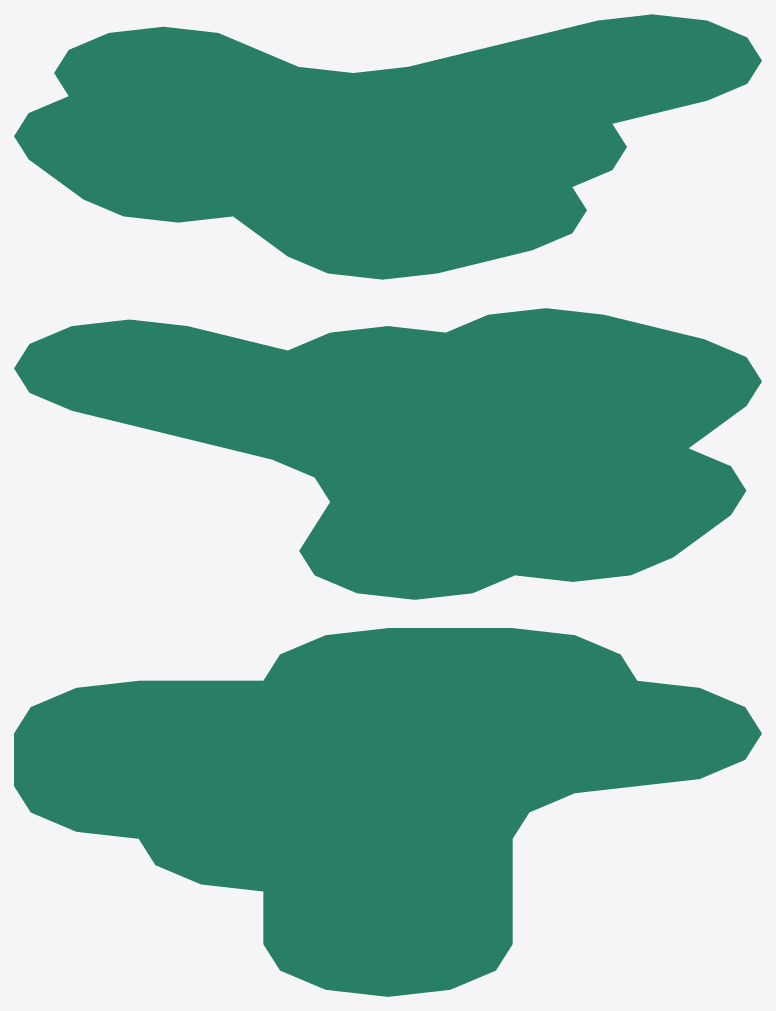
Rendered from patch-grass-large.glb.
3 views of the same model, one above another, from view 1: azimuth 30°, elevation 25°; view 2: azimuth 150°, elevation 25°; view 3: azimuth 270°, elevation 25° (orthographic). The views are drawn at different scales.
Visible parts, largest first — view 1: patch-grass-large; view 2: patch-grass-large; view 3: patch-grass-large.
Boxes of the visible parts, left/top/right/bottom form: patch-grass-large: left=14, top=14, right=761, bottom=279; patch-grass-large: left=14, top=308, right=761, bottom=599; patch-grass-large: left=14, top=628, right=761, bottom=996.
Size of the model in its own units: 1.4 by 0 by 1.2.
Materials: 1 (1 with a texture image).
